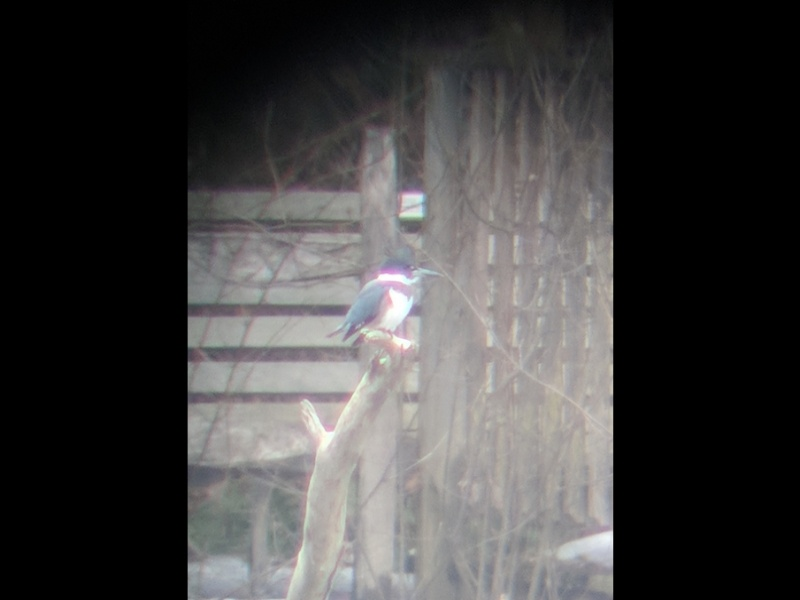kingfisher: (322, 246, 441, 357)
